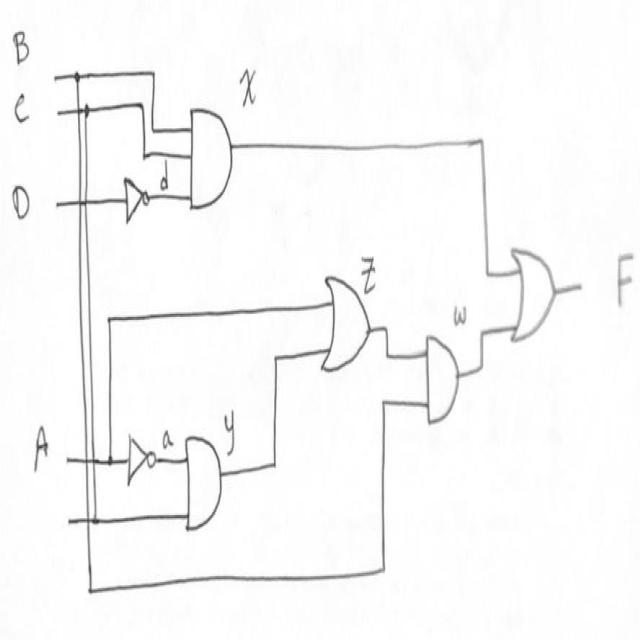AND: (182, 98, 241, 222), (178, 431, 227, 543), (421, 329, 464, 434)
NOT: (120, 422, 158, 488), (120, 165, 153, 232)
OR: (509, 233, 567, 361), (322, 266, 372, 383)
